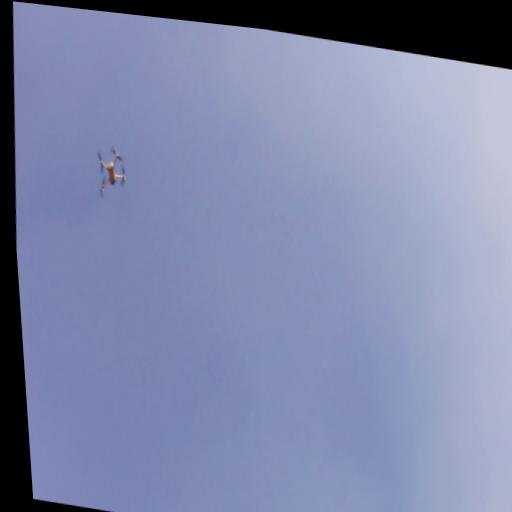drones: (91, 140, 132, 208)
